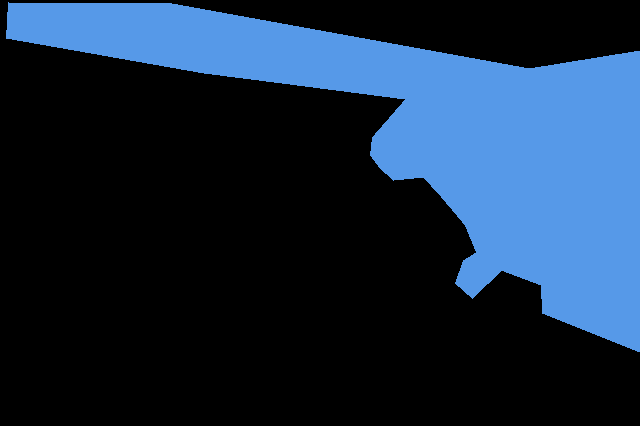Airplane: (6, 2, 640, 352)
